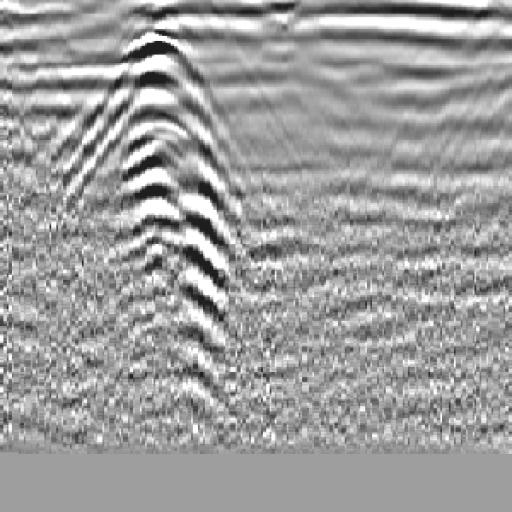metalic: (64, 8, 269, 331)
